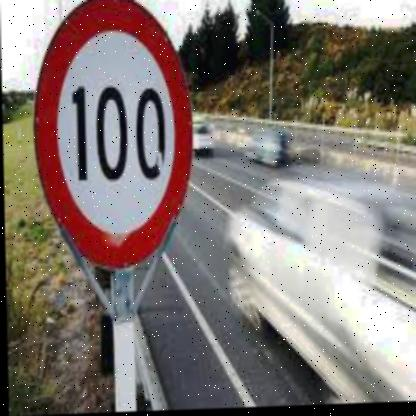Speed Limit -100-: (25, 0, 194, 280)
